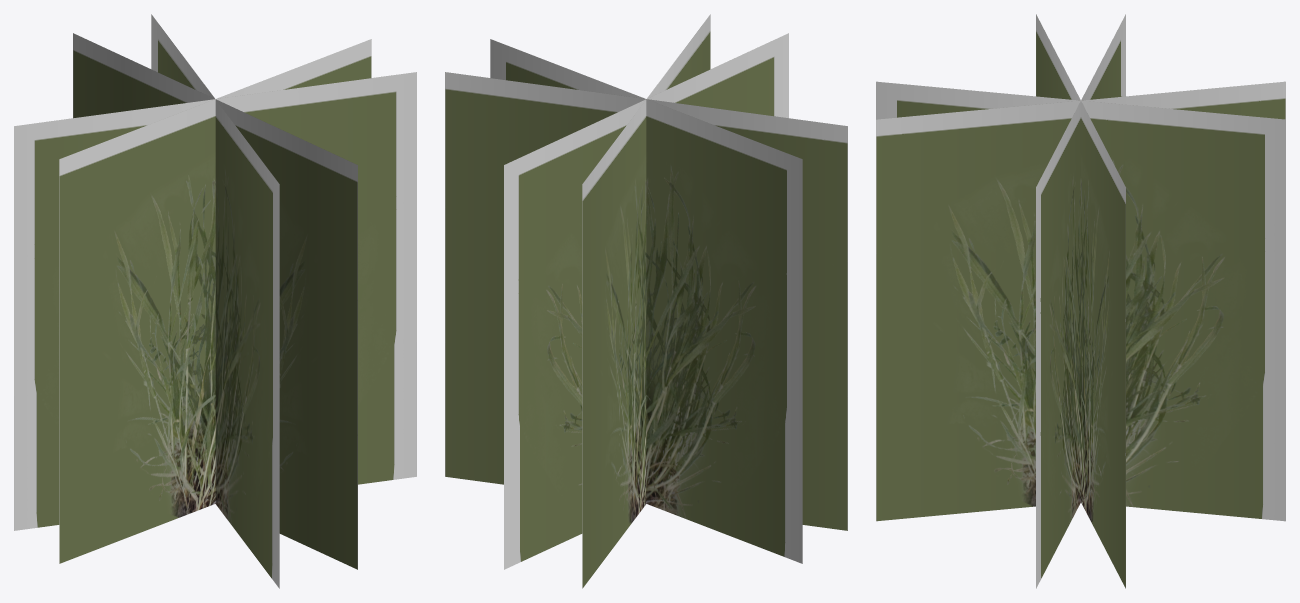
The model's file is TerrainGrass00.fbx.
The picture shows the model from 3 angles, left to right: view 1: azimuth 30°, elevation 25°; view 2: azimuth 150°, elevation 25°; view 3: azimuth 270°, elevation 25°; orthographic projection.
Parts seen in each view (by area): view 1: TerrainGrass00; view 2: TerrainGrass00; view 3: TerrainGrass00.
Boxes of the visible parts, x1,y1,x2,y2 form: TerrainGrass00: [14, 14, 416, 588]; TerrainGrass00: [445, 14, 847, 588]; TerrainGrass00: [876, 14, 1285, 588].
Bounding box in the file's own units: 99.98 × 108 × 99.98.
